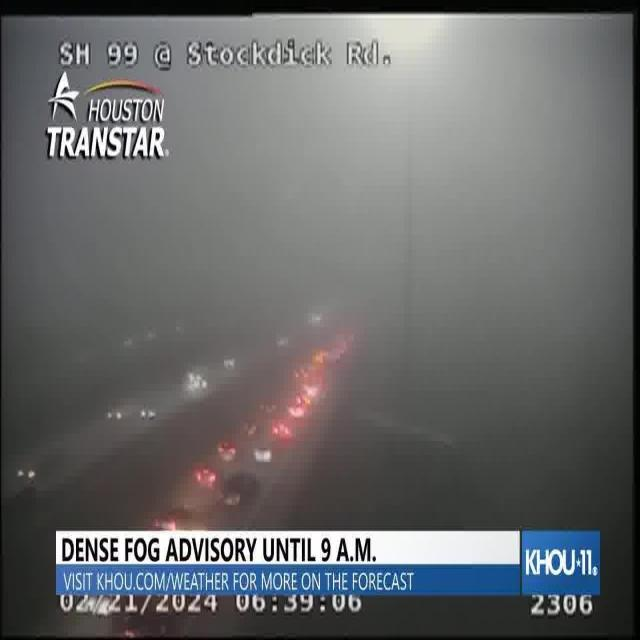Car: (148, 503, 186, 534), (193, 462, 217, 493), (214, 438, 239, 464), (285, 397, 307, 418), (270, 422, 290, 444), (253, 443, 272, 466)
